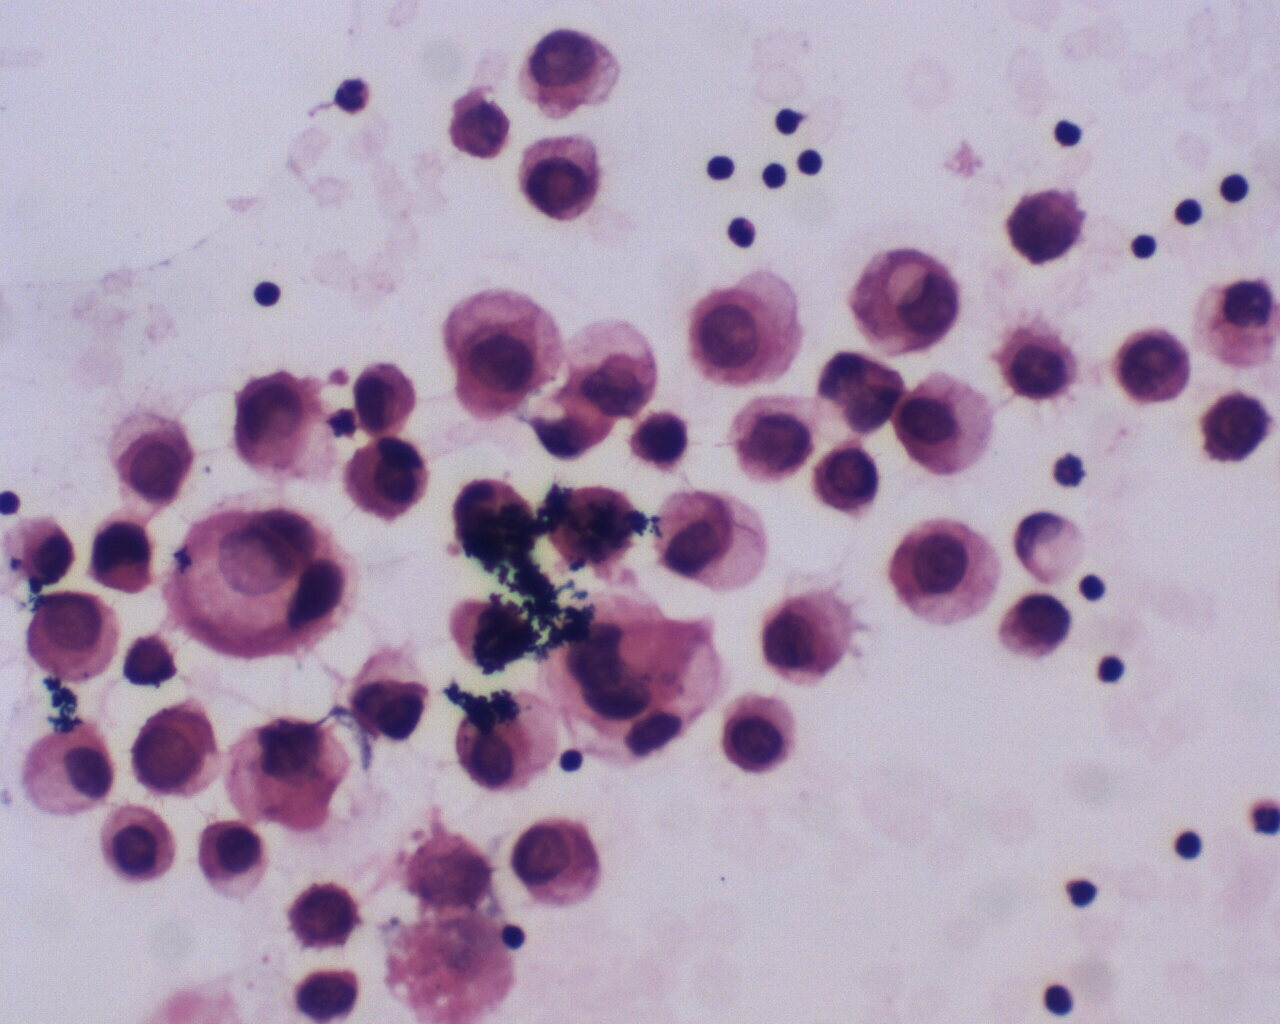ab: (689, 261, 810, 391), (232, 720, 352, 837), (723, 393, 833, 488), (121, 697, 226, 795), (753, 581, 852, 685), (22, 587, 125, 684), (505, 818, 609, 914), (509, 133, 610, 227), (516, 30, 620, 119), (546, 480, 639, 577), (109, 420, 206, 509), (341, 439, 437, 525), (1006, 182, 1093, 272), (998, 318, 1078, 408), (1110, 326, 1197, 406), (348, 356, 427, 440), (280, 878, 366, 955), (83, 517, 159, 597), (1198, 383, 1273, 464), (999, 586, 1074, 664), (812, 440, 884, 516), (629, 408, 694, 474)
histo: (1013, 507, 1090, 586)
lymph: (1122, 225, 1172, 267), (1065, 866, 1106, 915), (1170, 821, 1211, 865), (1093, 643, 1133, 688), (699, 149, 739, 190), (1170, 189, 1208, 231), (1039, 977, 1074, 1020), (1050, 111, 1087, 152), (251, 275, 285, 315), (795, 142, 825, 182), (770, 101, 804, 136)
meso: (886, 510, 1001, 630), (845, 245, 962, 356), (18, 719, 116, 820), (719, 689, 800, 778), (95, 801, 177, 888), (191, 818, 274, 901)
neutro: (326, 68, 373, 121), (724, 211, 763, 249)
